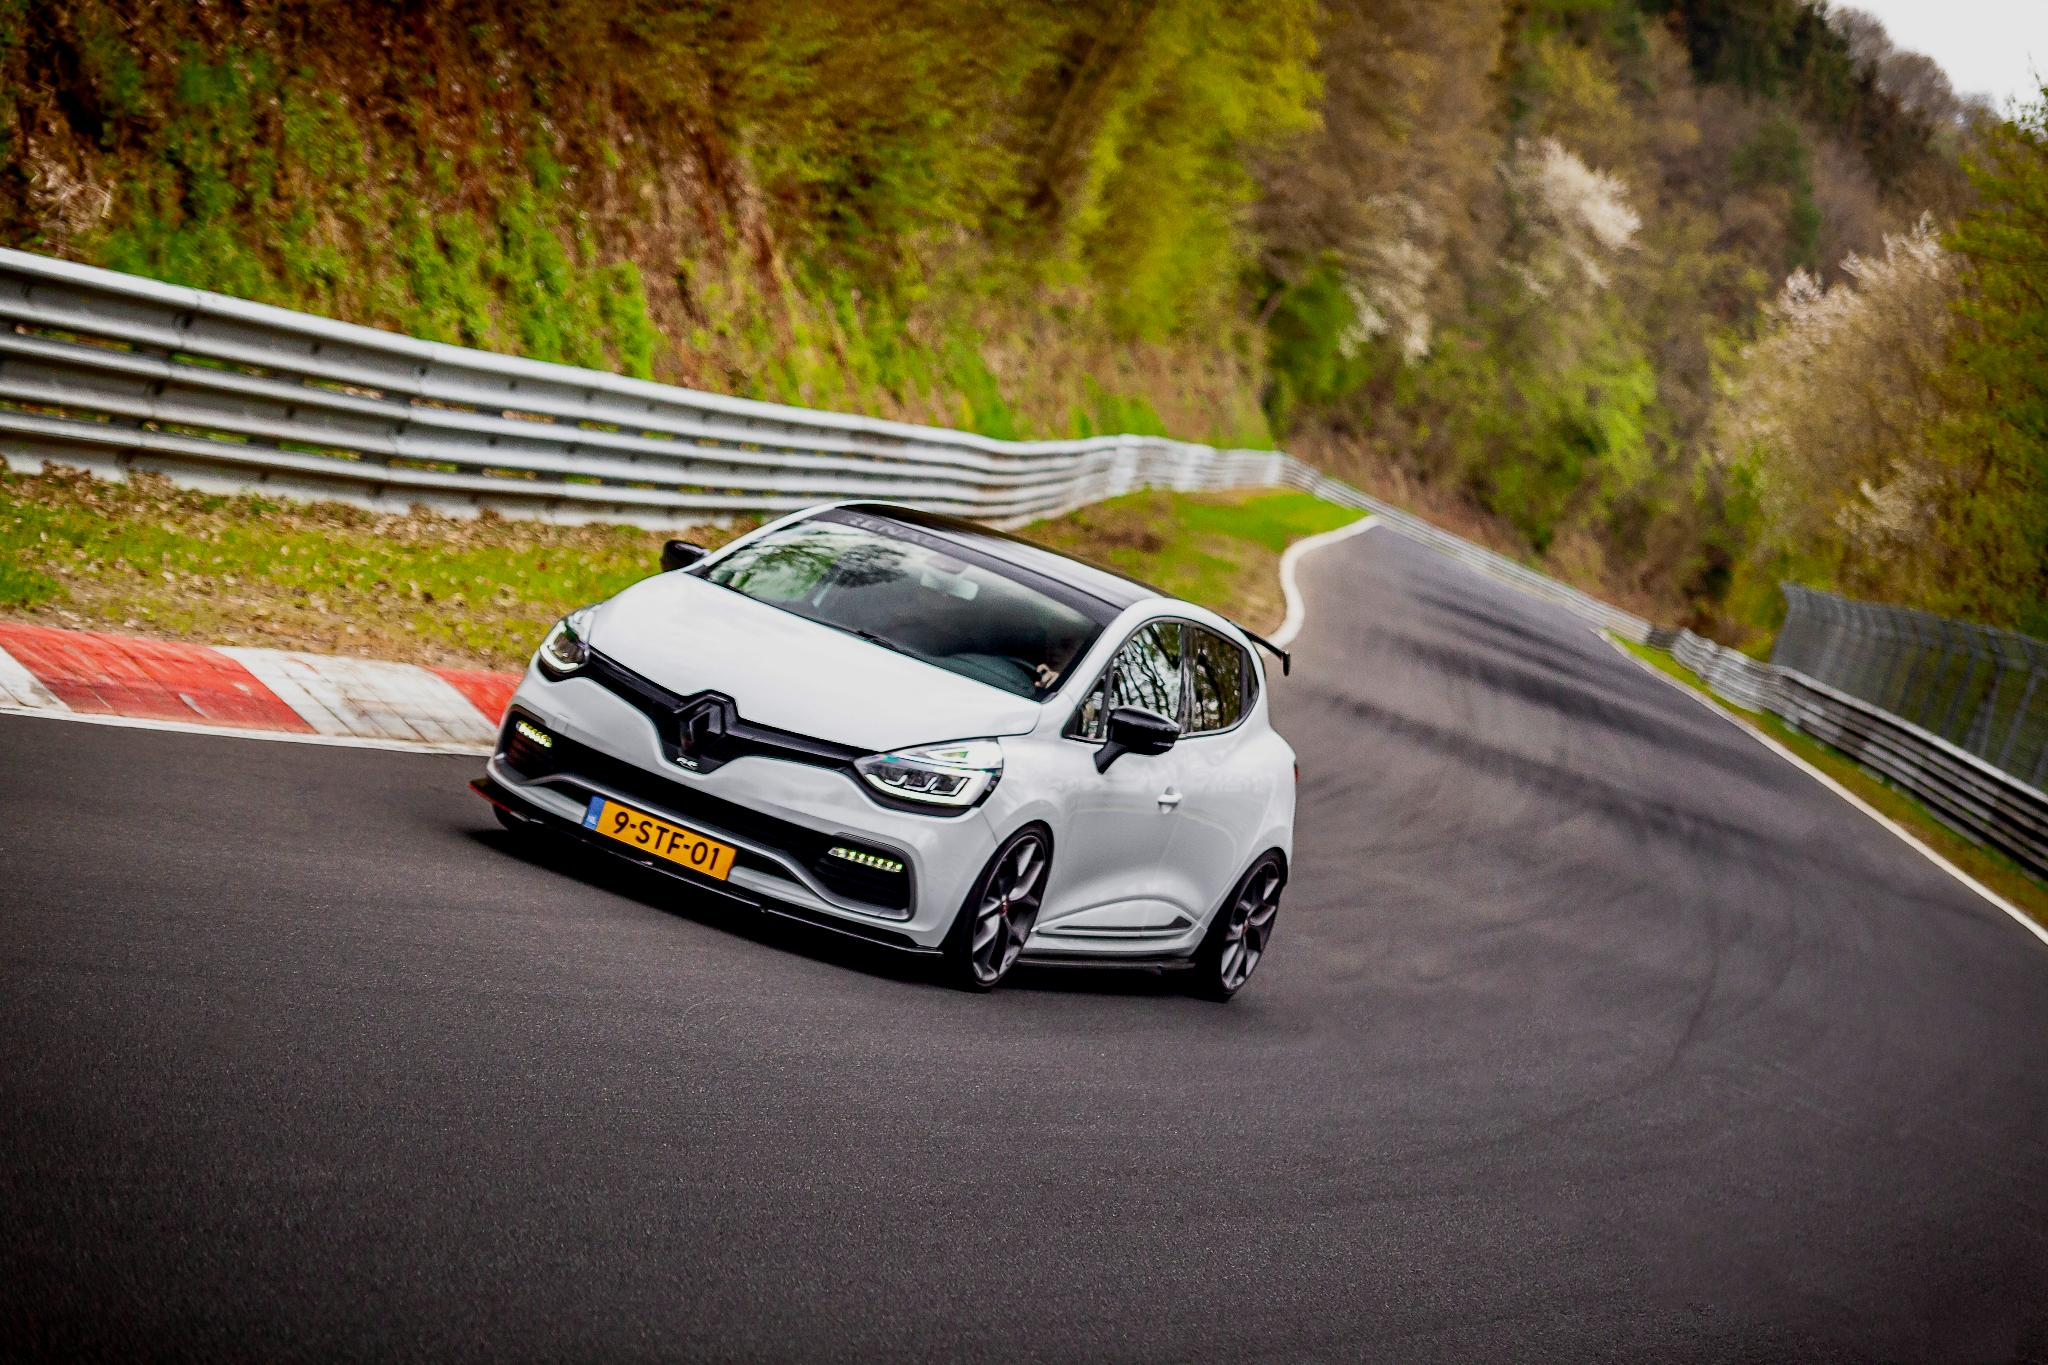Renault: (661, 692, 743, 771)
